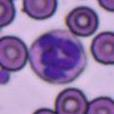N: (30, 29, 87, 84)
